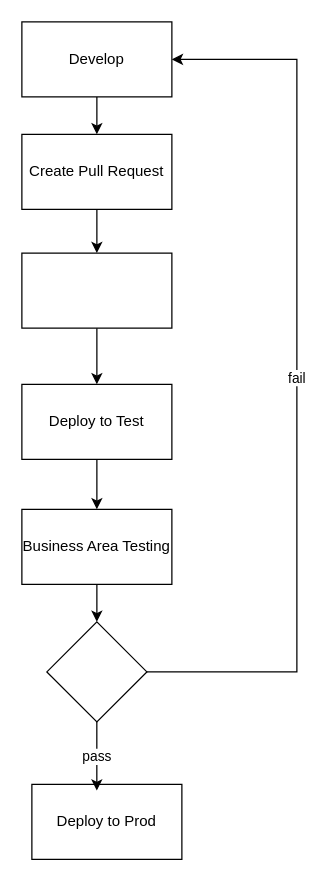
Some shapes in this 329 by 881 pixel diagram are drawn without their labels. The shapes that lost their labels are listed below. From the top down, each one's centre as x and y in pixels, then its label:
the point at 96,290: Review/Approve
the point at 96,671: Success?
